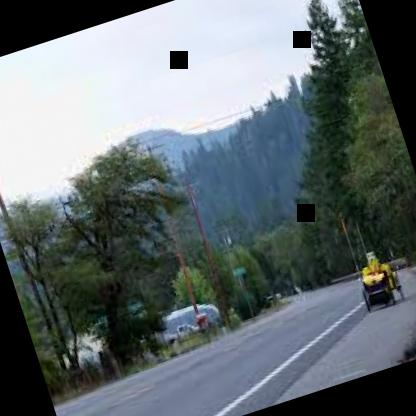car: (336, 243, 414, 325)
